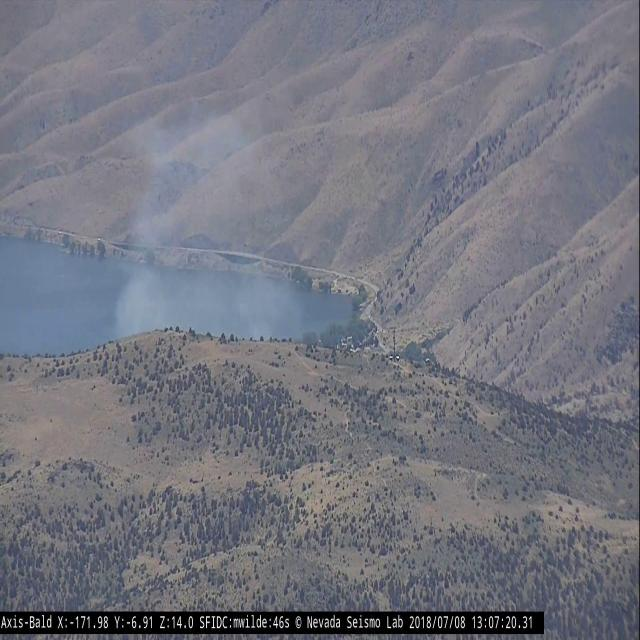smoke: (114, 97, 306, 346)
